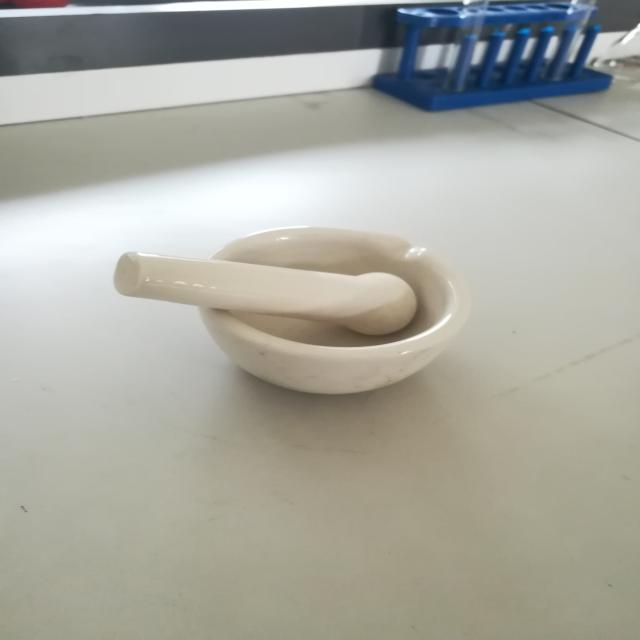Porcelain_Mortar Pestle: (52, 198, 523, 428)
